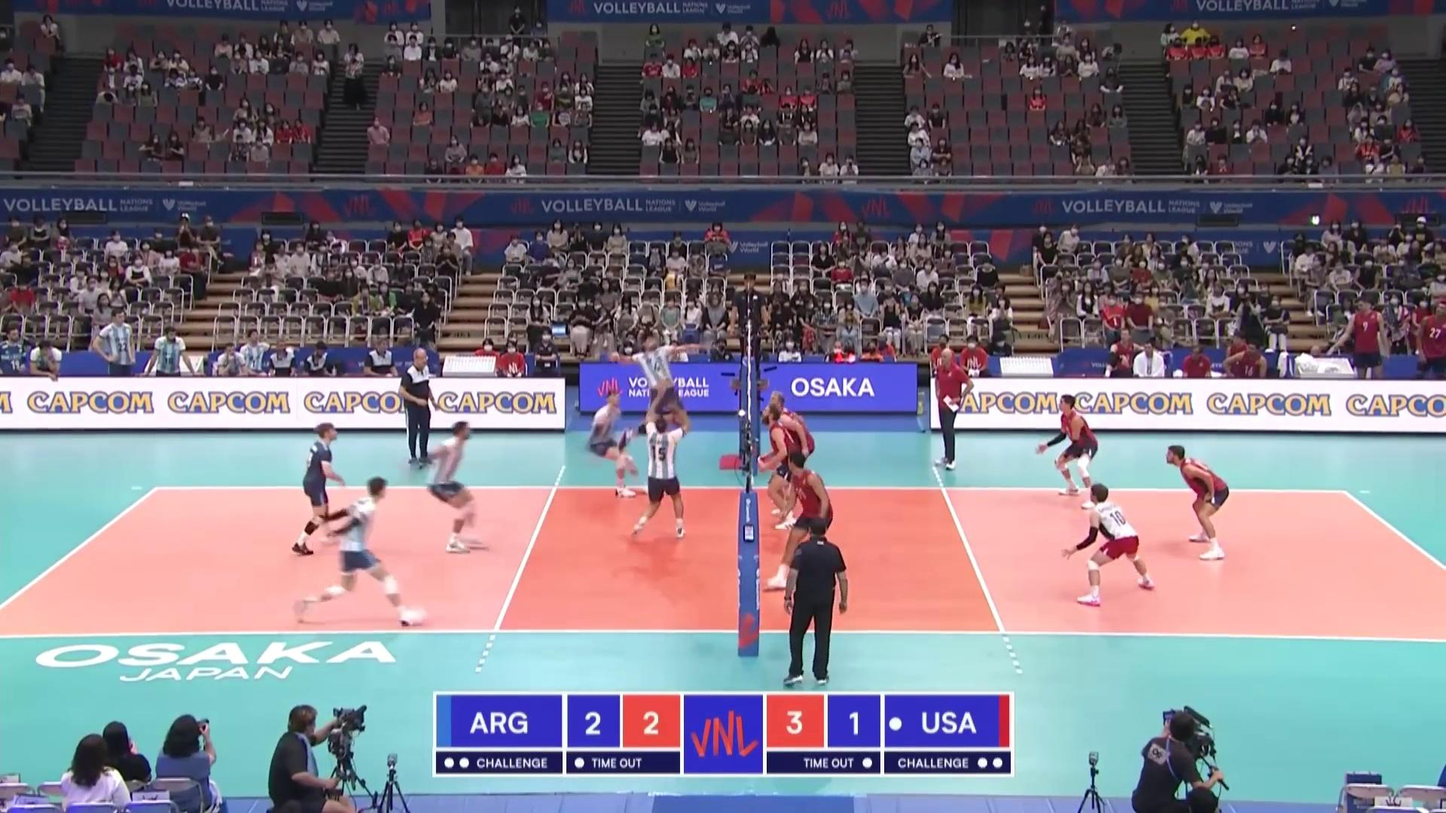player: (298, 479, 425, 628), (1063, 483, 1158, 603), (614, 332, 704, 453), (771, 450, 835, 591), (422, 422, 488, 553), (628, 400, 688, 543), (1164, 444, 1230, 561), (1037, 394, 1101, 510), (295, 421, 343, 554), (588, 386, 642, 500), (762, 402, 806, 533), (768, 391, 817, 506)
refree: (772, 518, 848, 685), (730, 271, 766, 373)
